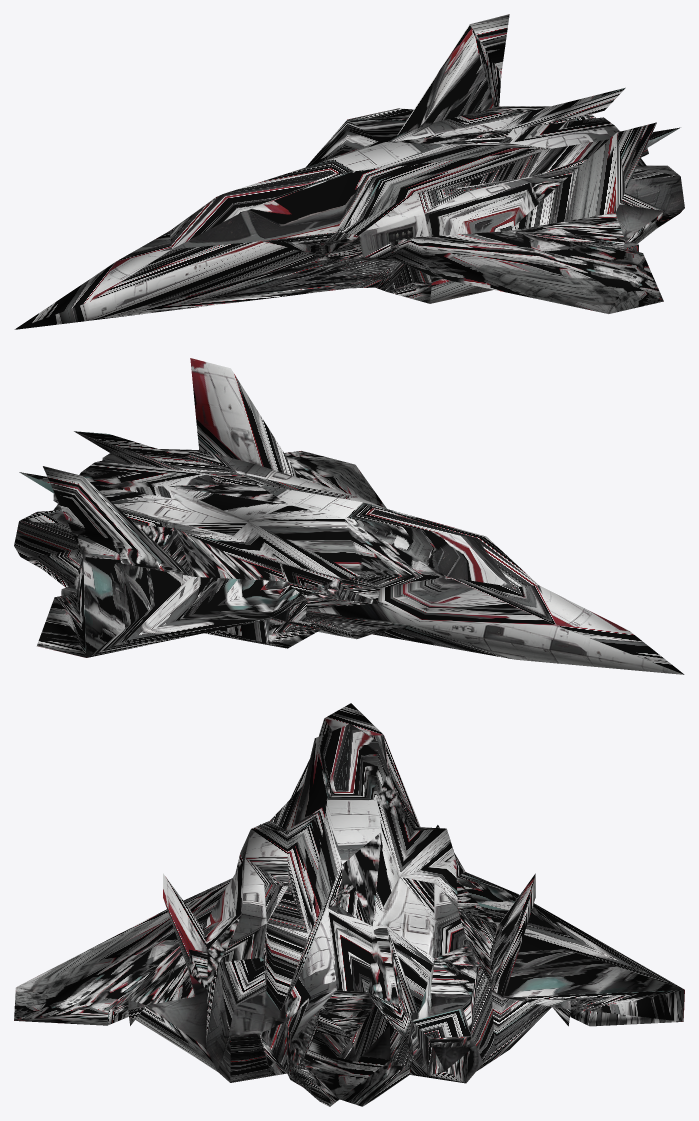
Rendered from spaceship_fighter_simplify5.glb.
3 views of the same model, one above another, from view 1: azimuth 30°, elevation 25°; view 2: azimuth 150°, elevation 25°; view 3: azimuth 270°, elevation 25° (orthographic). The views are drawn at different scales.
Visible parts, largest first — view 1: Mesh1.0_Material.001_0; view 2: Mesh1.0_Material.001_0; view 3: Mesh1.0_Material.001_0.
Part boxes in pixels (x1,y1,x2,y2): Mesh1.0_Material.001_0: [14, 14, 684, 329]; Mesh1.0_Material.001_0: [14, 358, 684, 674]; Mesh1.0_Material.001_0: [14, 703, 684, 1106].
Size of the model in its own units: 1.91 by 0.4472 by 1.37.
1 material, 1 textured.
